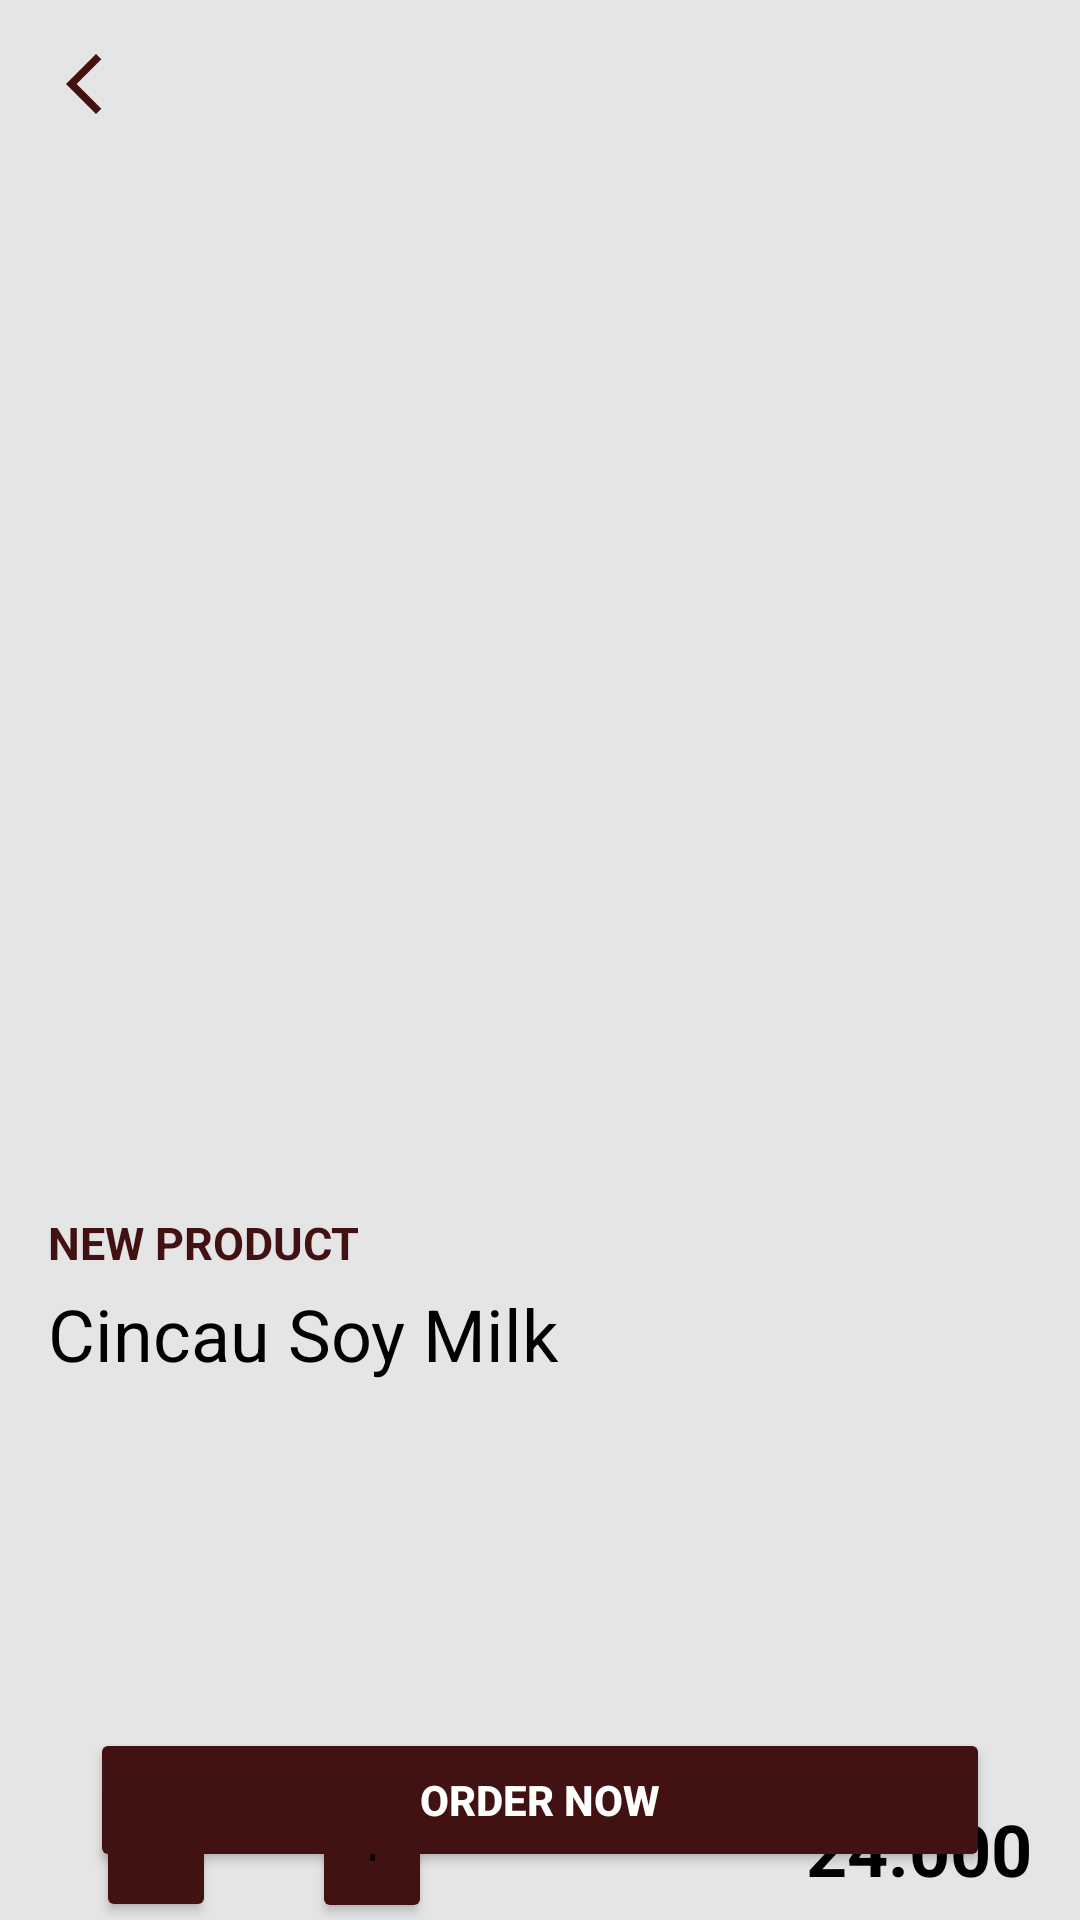

Named icons in this screenshot (1080x1920) and their centers, (x,y):
arrow back: (83,84)
